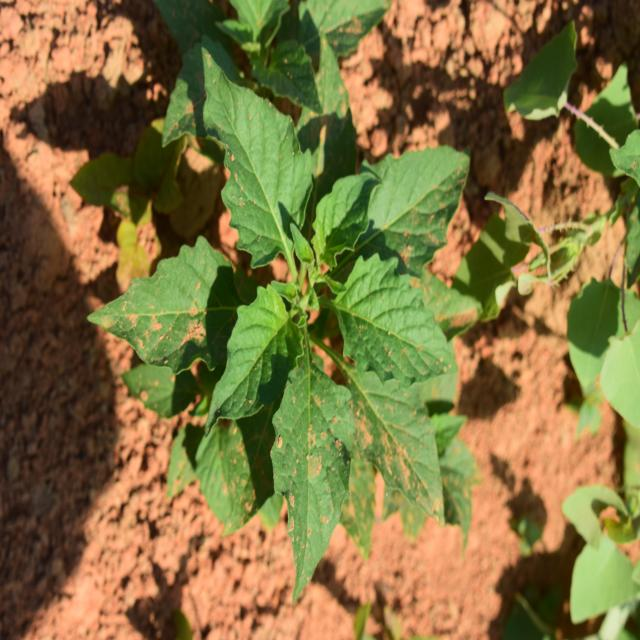Black_nightshade: (147, 125, 473, 548)
